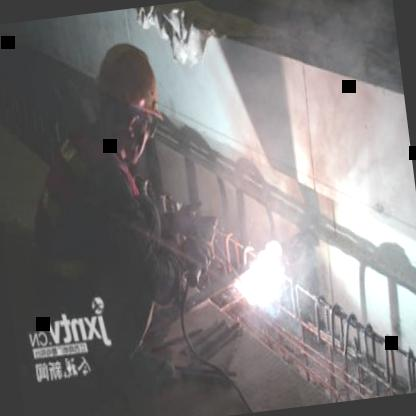helmet: (82, 34, 167, 172)
